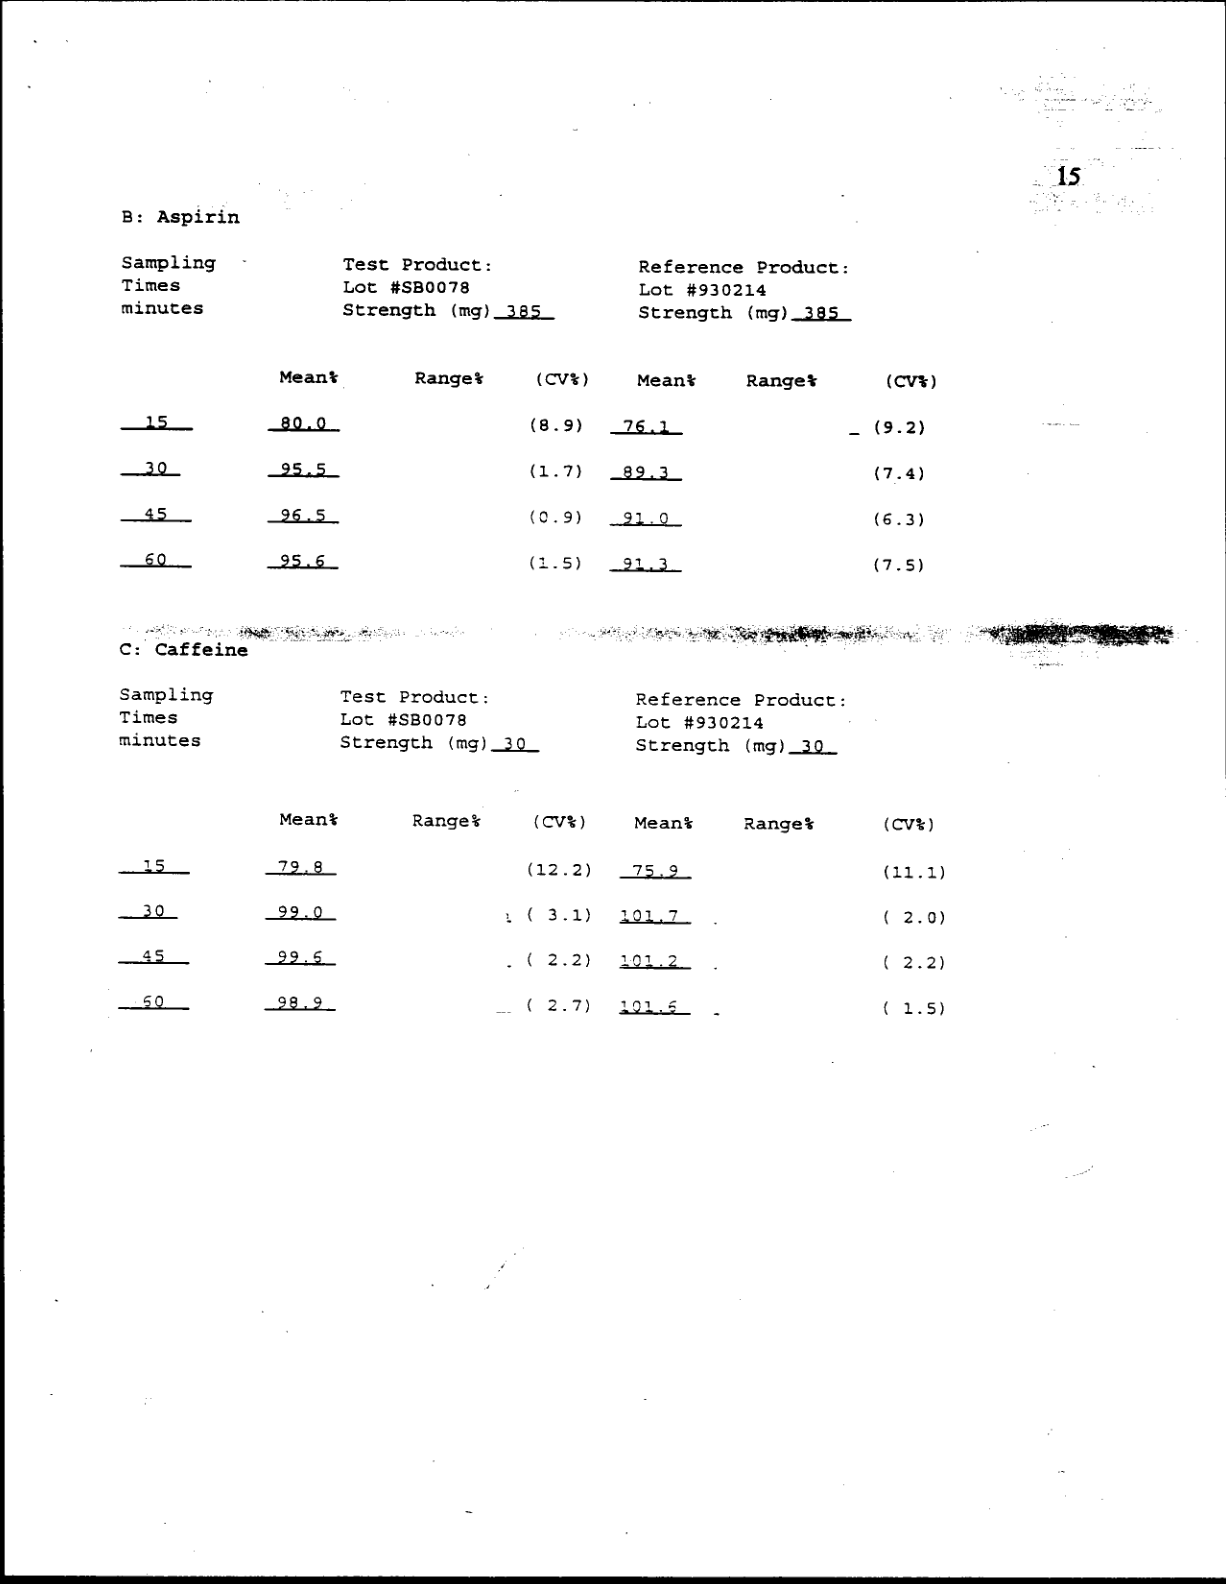nolines: (117, 811, 948, 1023), (120, 368, 937, 573), (116, 683, 847, 757), (117, 252, 855, 323)
